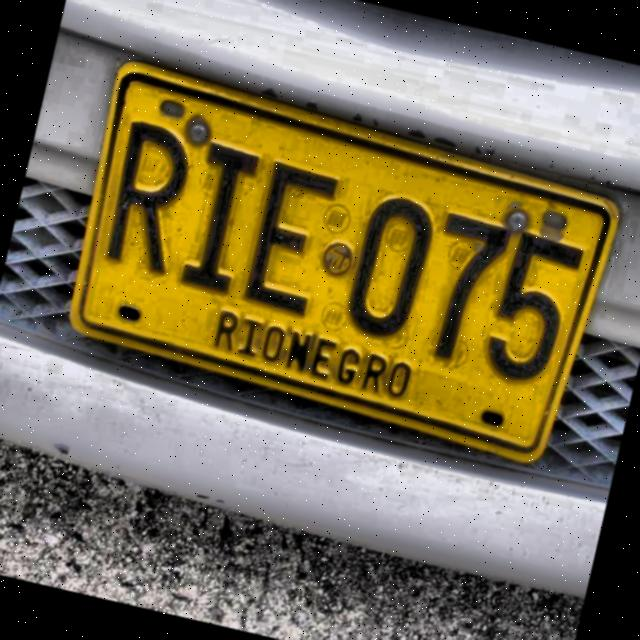plate: (77, 67, 614, 456)
